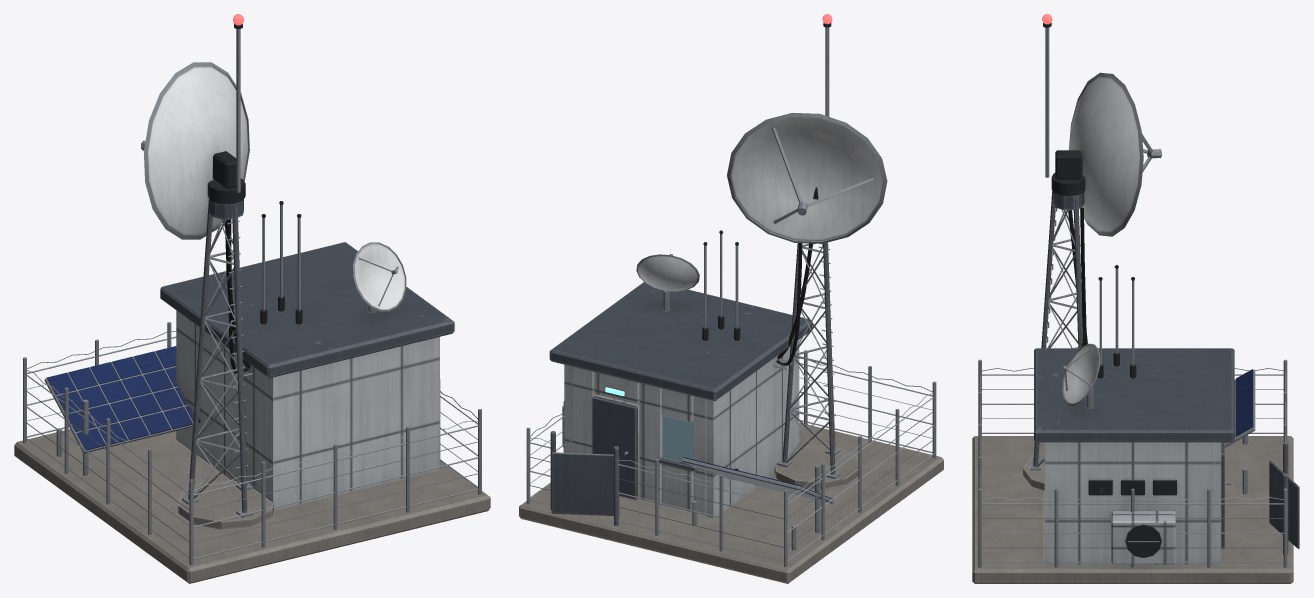
File: estacion_comunicaciones.fbx
3 renders of one model, left to right at view 1: azimuth 30°, elevation 25°; view 2: azimuth 150°, elevation 25°; view 3: azimuth 270°, elevation 25°, orthographic. The views are drawn at different scales.
Parts seen in each view (by area): view 1: estacion_comunicaciones, estacion_comunicaciones_parabolica; view 2: estacion_comunicaciones, estacion_comunicaciones_parabolica, estacion_comunicaciones_puerta, estacion_comunicaciones_cristal; view 3: estacion_comunicaciones, estacion_comunicaciones_parabolica, estacion_comunicaciones_puerta.
Boxes of the visible parts, box(x1,y1,x2,y2) form: estacion_comunicaciones: box(14, 23, 490, 583); estacion_comunicaciones_parabolica: box(141, 62, 249, 239); estacion_comunicaciones: box(519, 23, 943, 583); estacion_comunicaciones_parabolica: box(727, 112, 887, 243); estacion_comunicaciones_puerta: box(592, 396, 637, 499); estacion_comunicaciones_cristal: box(662, 415, 693, 462); estacion_comunicaciones: box(972, 23, 1299, 583); estacion_comunicaciones_parabolica: box(1051, 72, 1161, 236); estacion_comunicaciones_puerta: box(1221, 442, 1230, 548).
Size of the model in its own units: 6.35 by 9.8 by 6.12.
4 materials, 1 textured.
